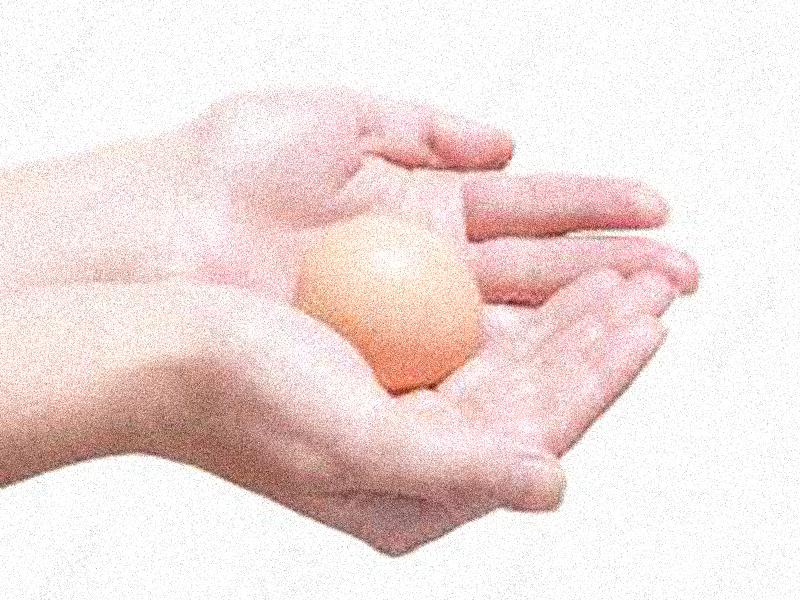Eggs: (305, 223, 480, 387)
